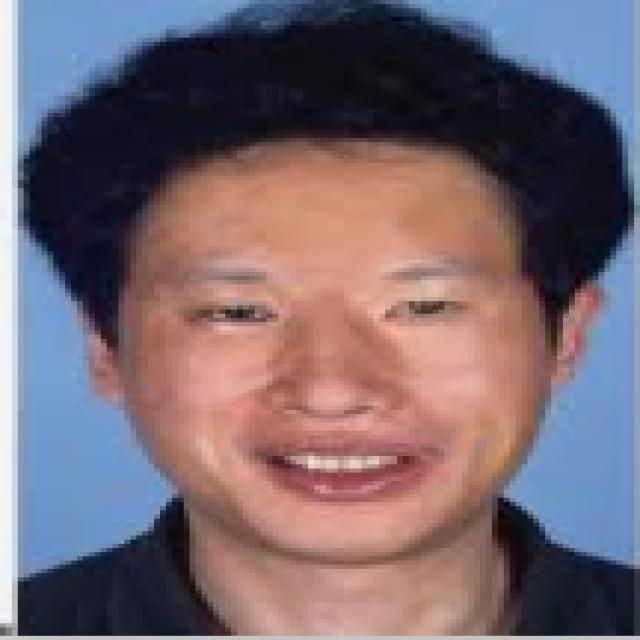stroke_face: (99, 86, 572, 563)
